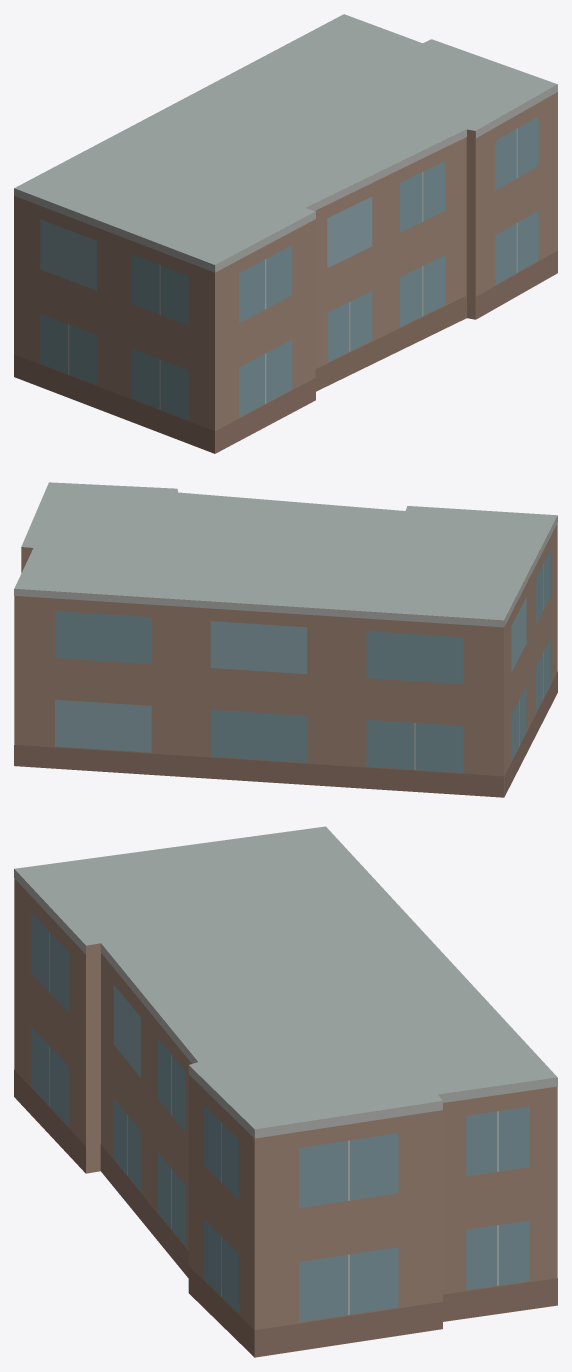
Rendered from survey-upis-32697644.glb.
The picture shows the model from 3 angles, top to bottom: view 1: azimuth 30°, elevation 25°; view 2: azimuth 150°, elevation 25°; view 3: azimuth 270°, elevation 25°; orthographic projection. The views are drawn at different scales.
Parts seen in each view (by area): view 1: survey-upis-32697644.tmp; view 2: survey-upis-32697644.tmp; view 3: survey-upis-32697644.tmp.
Boxes of the visible parts, <box> form: survey-upis-32697644.tmp: <box>14,14,557,453</box>; survey-upis-32697644.tmp: <box>14,482,557,797</box>; survey-upis-32697644.tmp: <box>14,826,557,1357</box>.
Size of the model in its own units: 17.4 by 6.1 by 13.19.
